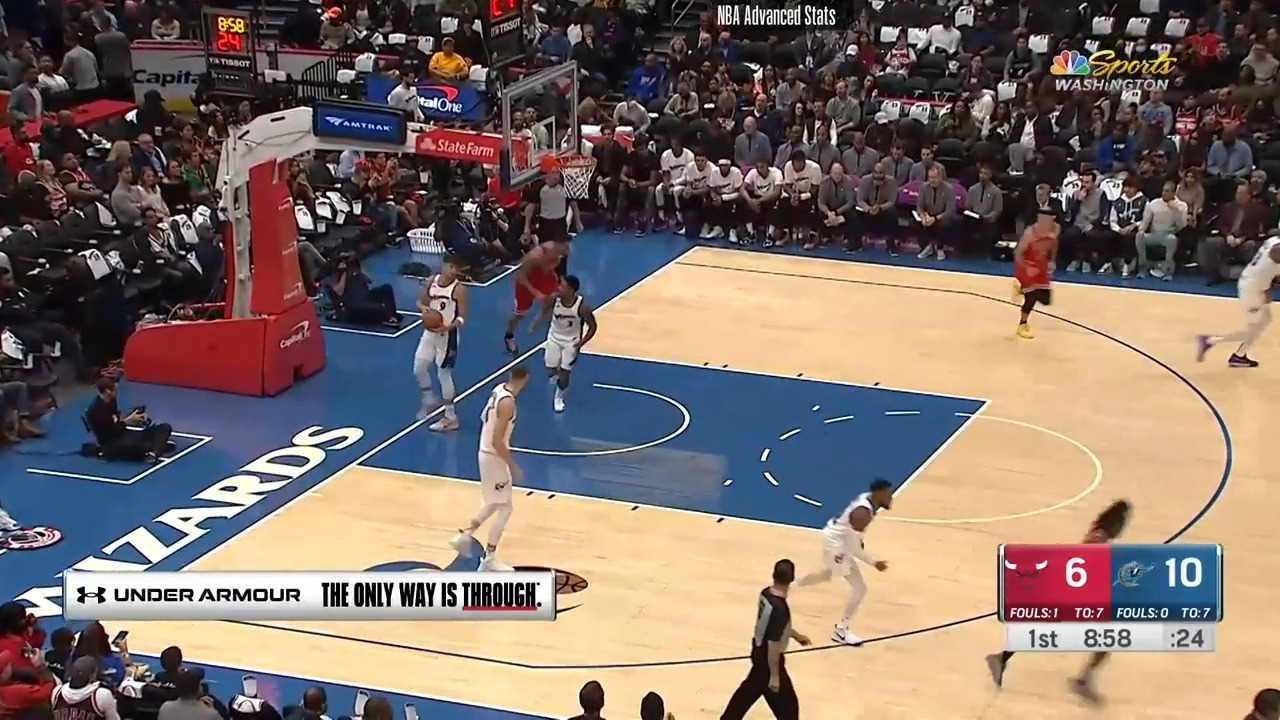net: (539, 145, 601, 201)
player: (988, 494, 1157, 713), (443, 364, 529, 575), (799, 477, 899, 651), (1192, 221, 1280, 376), (408, 253, 472, 441), (530, 271, 598, 421), (503, 228, 575, 361), (1009, 205, 1063, 341)
referee: (707, 557, 816, 717), (530, 171, 581, 267)
